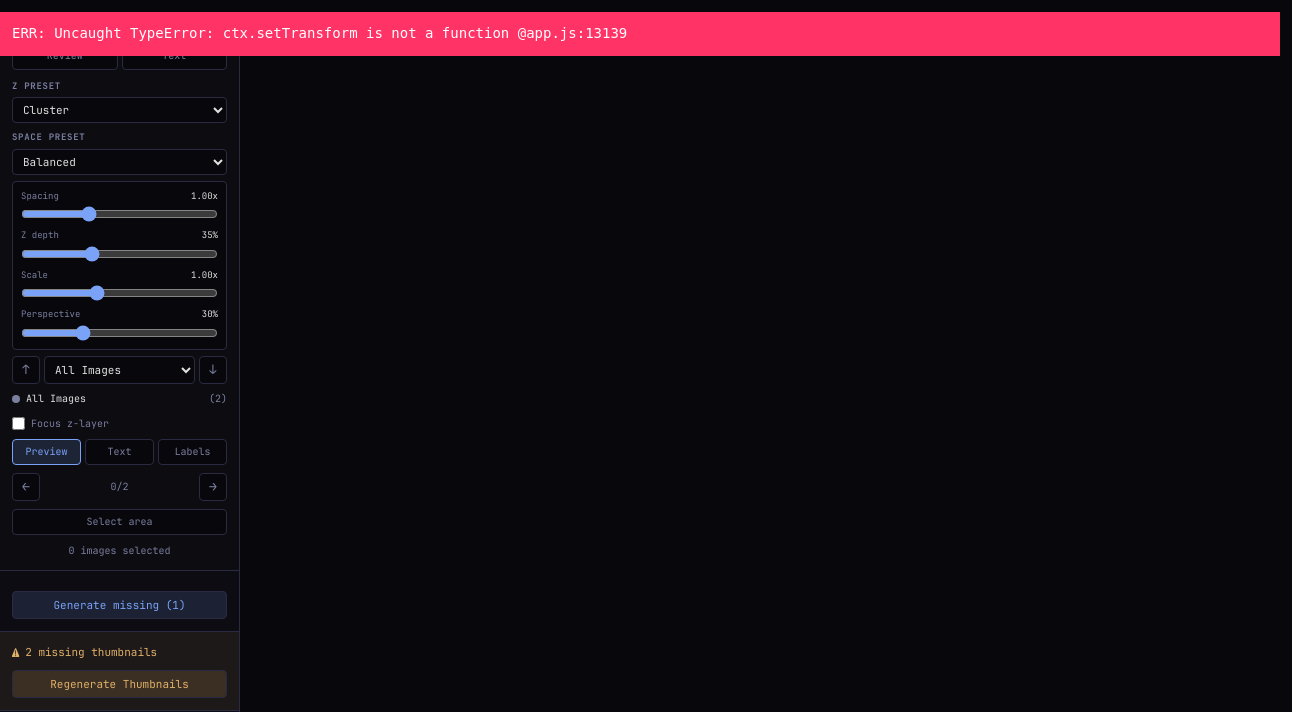
Test: Embedding Explorer library scope › does not let generation from an old scope overwrite the newly selected scope
The image size is (1292, 712).
Click the button "Generate missing (1)": point(120, 604) x1=12 y1=590 x2=227 y2=618
(page scrolled)
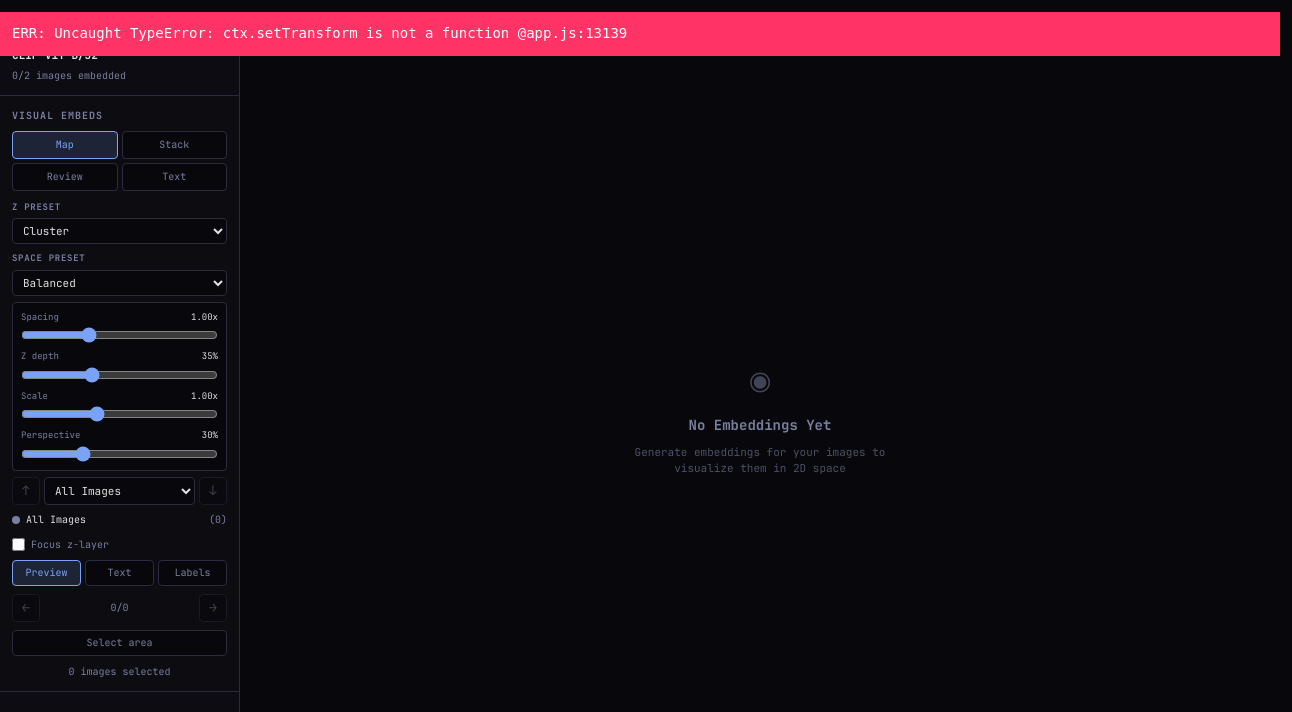
Check: the text "0/2 images embedded" is shown, box x1=12 y1=68 x2=126 y2=82
